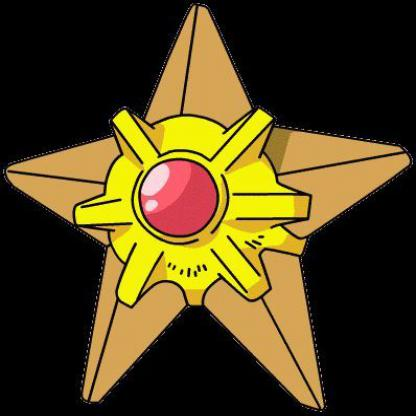Staryu: (1, 1, 416, 416)
